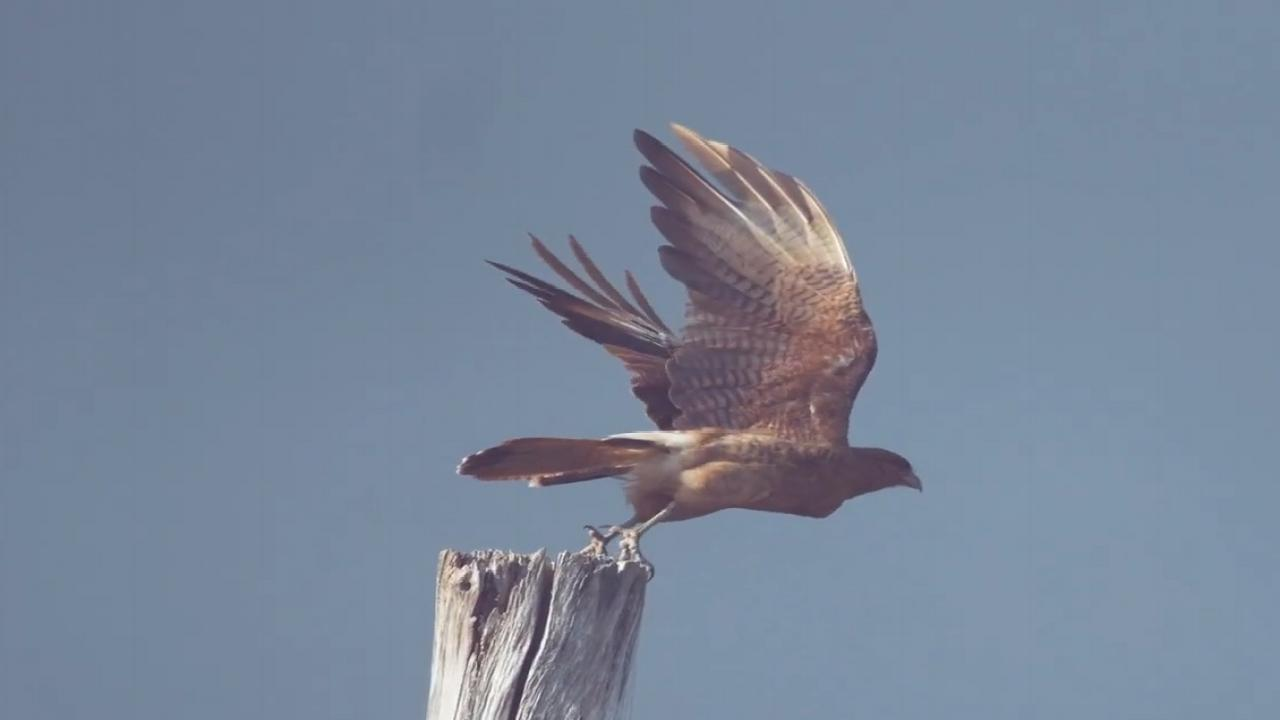Bird: (442, 114, 954, 549)
